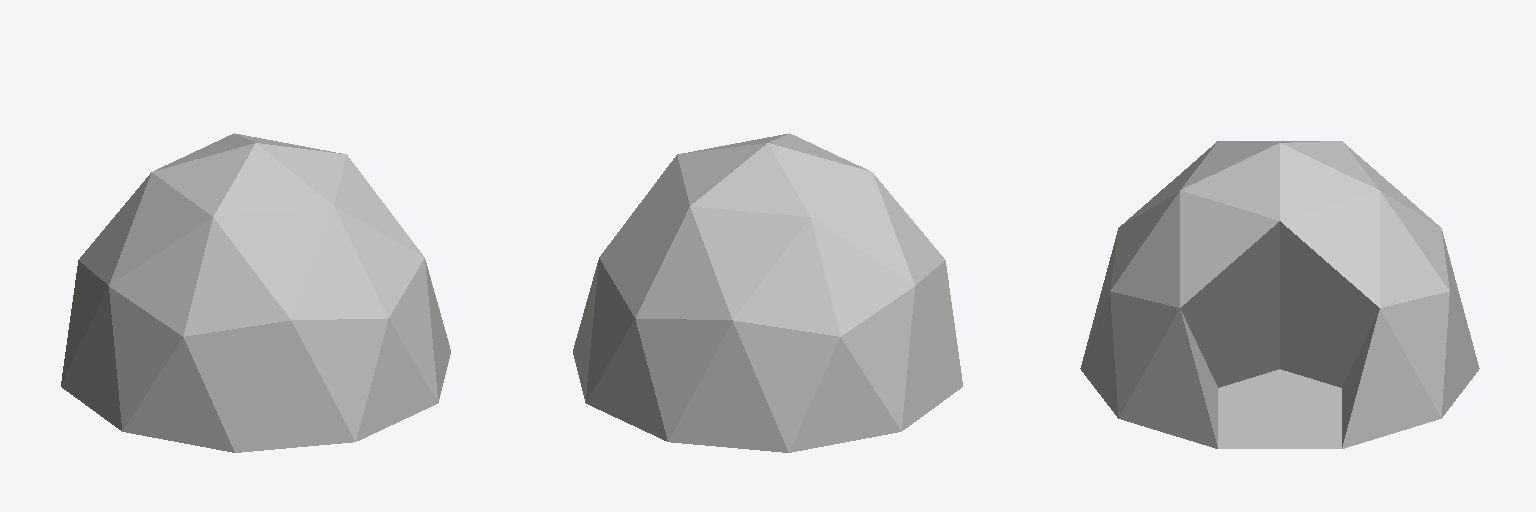
Rendered from Cave.obj.
The picture shows the model from 3 angles: view 1: azimuth 30°, elevation 25°; view 2: azimuth 150°, elevation 25°; view 3: azimuth 270°, elevation 25°; orthographic projection.
Parts seen in each view (by area): view 1: Icosphere; view 2: Icosphere; view 3: Icosphere.
Boxes of the visible parts, x1,y1,x2,y2 form: Icosphere: [61, 133, 450, 452]; Icosphere: [573, 133, 962, 452]; Icosphere: [1080, 141, 1479, 448].
Bounding box in the file's own units: 3.77 × 2.48 × 3.96.